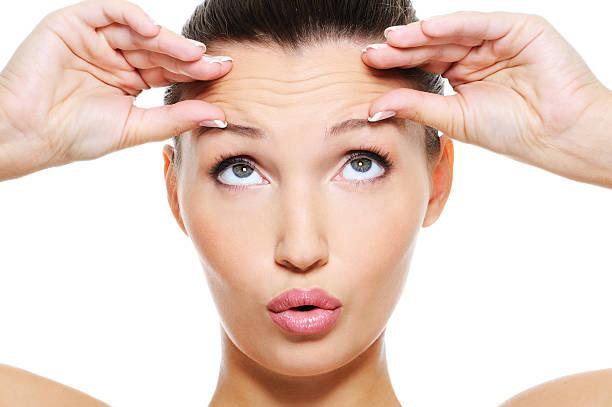Wrinkles: (196, 71, 399, 93), (243, 81, 386, 95), (254, 98, 350, 108), (335, 100, 369, 114), (195, 85, 229, 97), (197, 93, 222, 100), (207, 99, 232, 104), (362, 92, 382, 94)
